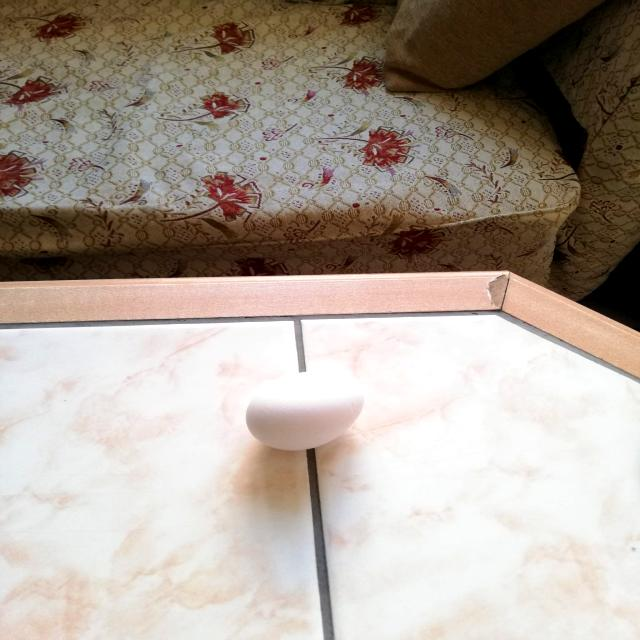egg: (232, 366, 374, 456)
